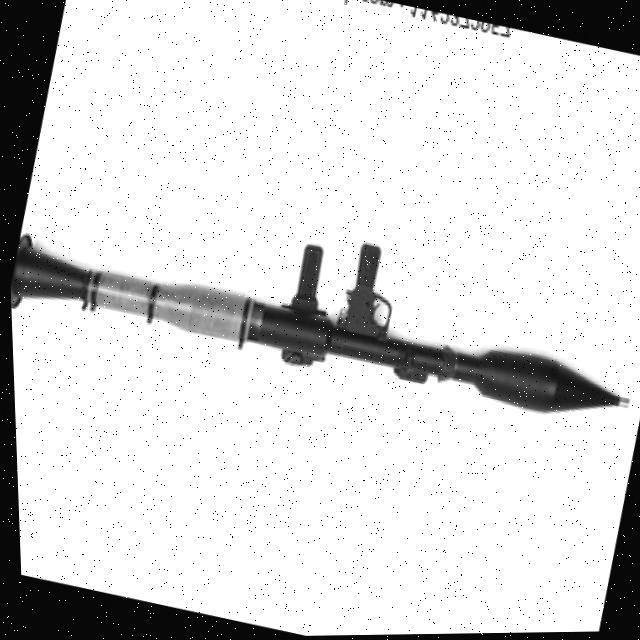grenade: (434, 332, 637, 435)
